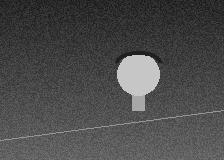no_helmet: (117, 51, 159, 100)
